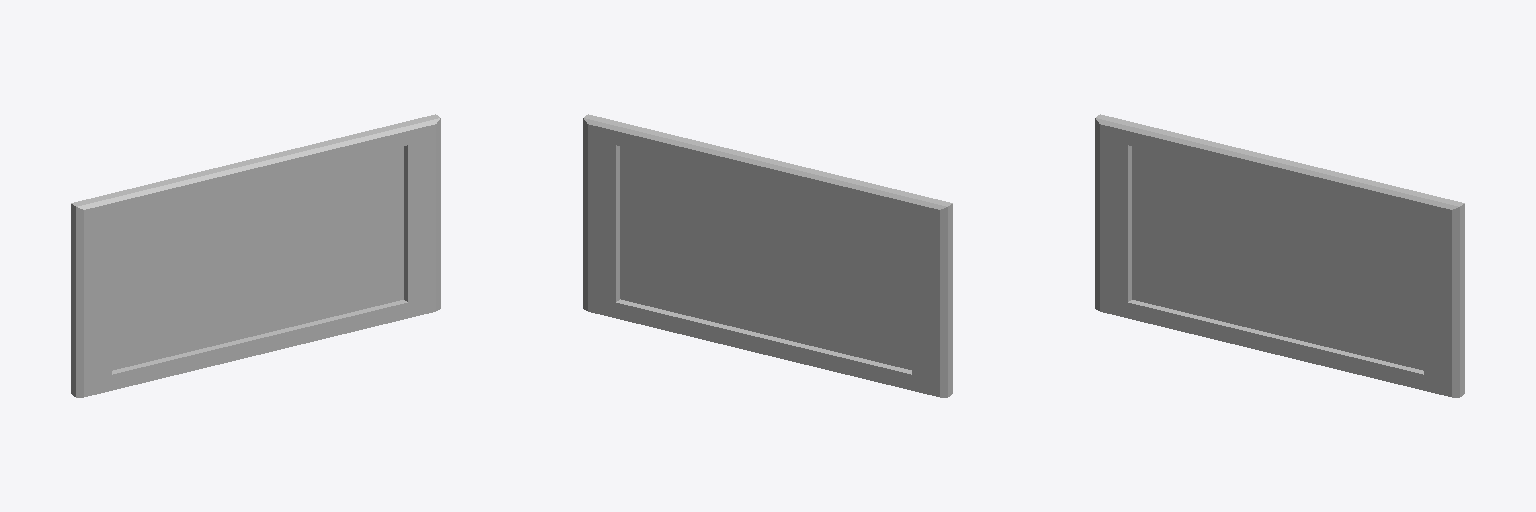
File: Command_Wall.obj
3 views of the same model, side by side, from view 1: azimuth 30°, elevation 25°; view 2: azimuth 150°, elevation 25°; view 3: azimuth 330°, elevation 25° (orthographic).
Visible parts, largest first — view 1: Command_Wall; view 2: Command_Wall; view 3: Command_Wall.
Part boxes in pixels (x1,y1,x2,y2): Command_Wall: (71,114,440,397); Command_Wall: (583,114,952,397); Command_Wall: (1095,114,1464,397).
Bounding box in the file's own units: 8 × 4 × 0.3241.